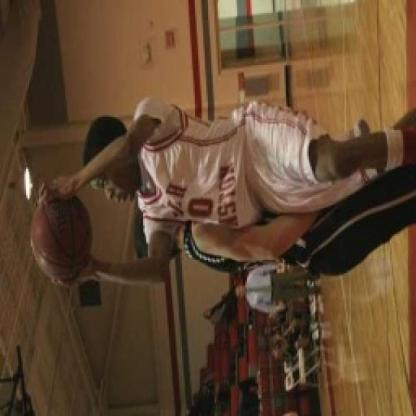basketball: (28, 187, 98, 285)
